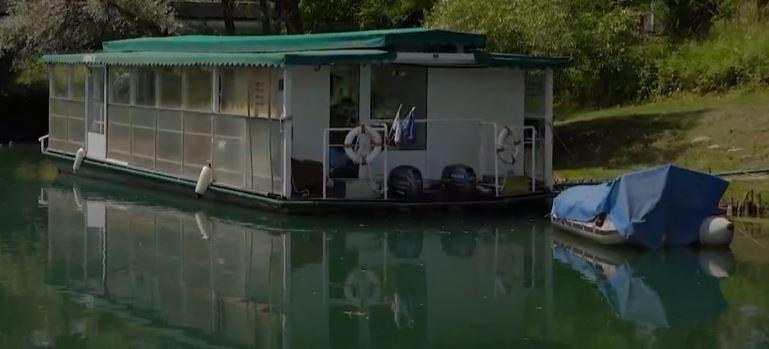Ship: (39, 25, 555, 216), (549, 164, 750, 265)
